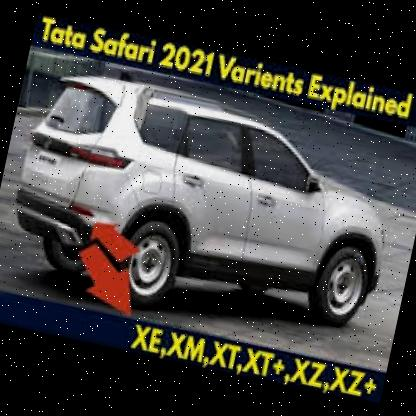car: (0, 55, 411, 351)
